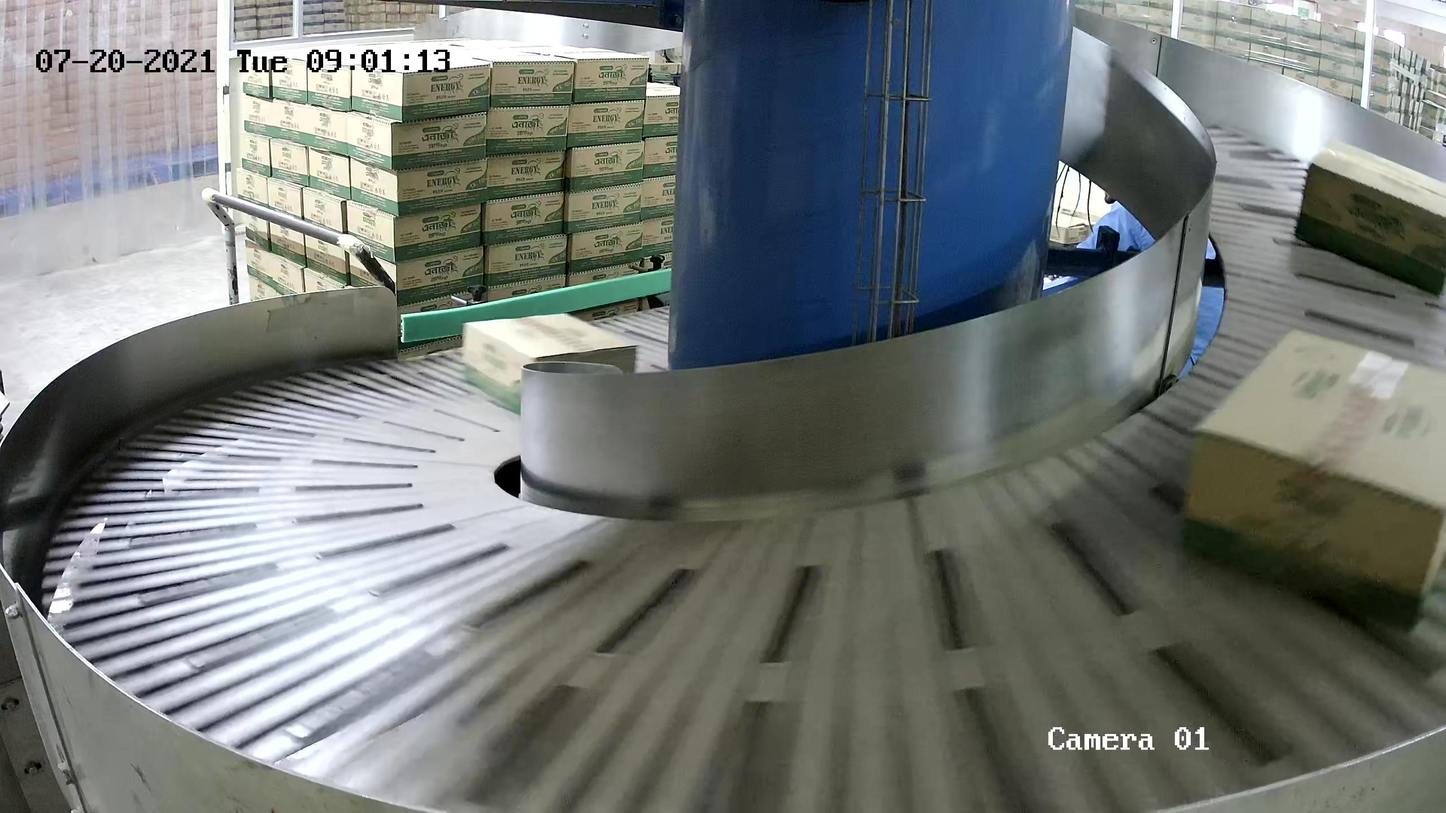Box: (1174, 325, 1446, 634), (1294, 137, 1446, 299), (463, 312, 637, 416)
